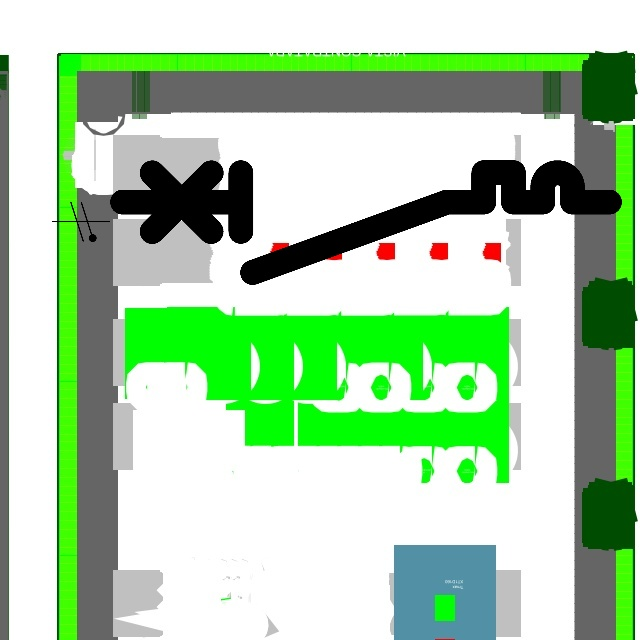interruptor_termomagnetico: (109, 160, 621, 285)
